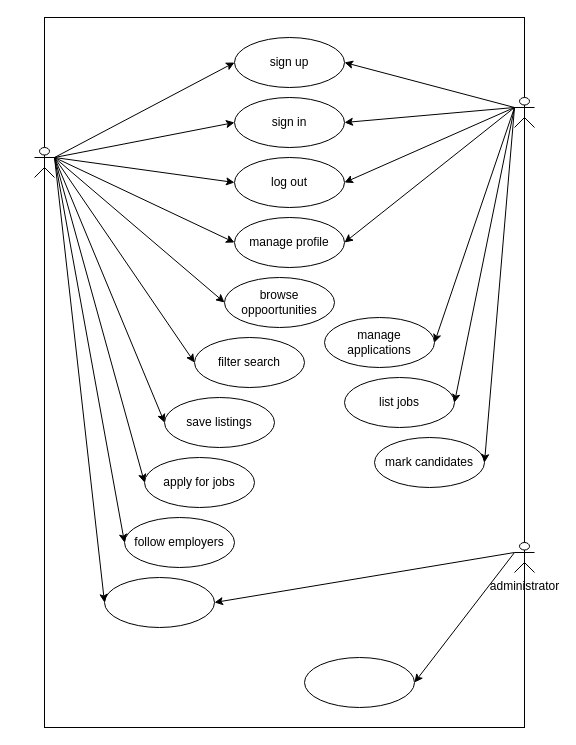
Image size: 576x745. Some labels were removed from this diagram. The shapes that lost their labels are listed below. From the top down, each one's centre as x and y in pixels, then its label:
At point 524,112: "employer".
At point 44,162: "job seeker".
At point 159,602: "request help and support".
At point 359,682: "maintain connect service".
